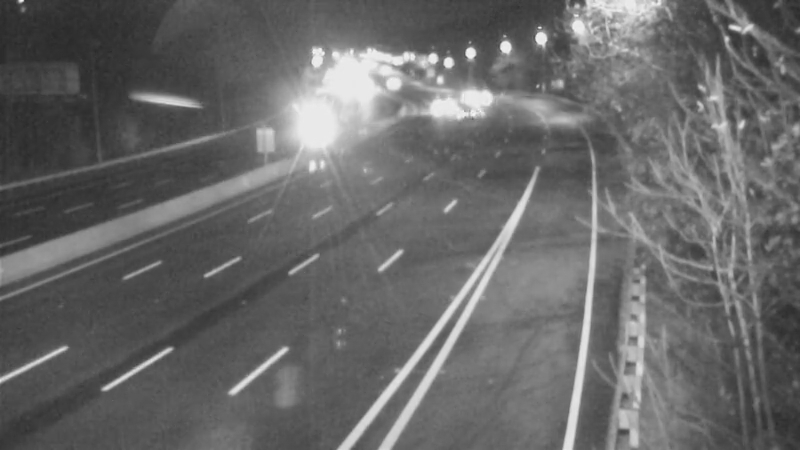vehicle: (367, 58, 417, 108), (454, 66, 504, 116), (412, 82, 462, 132), (443, 86, 493, 136), (278, 101, 328, 151)
